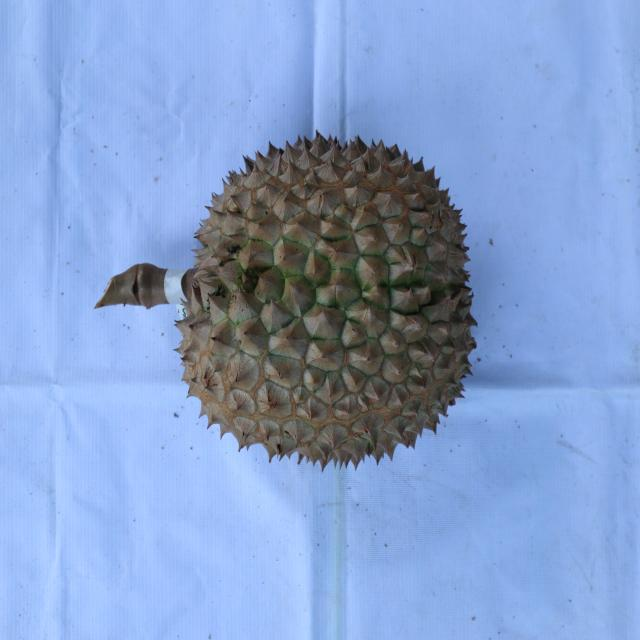mature: (175, 129, 478, 469)
